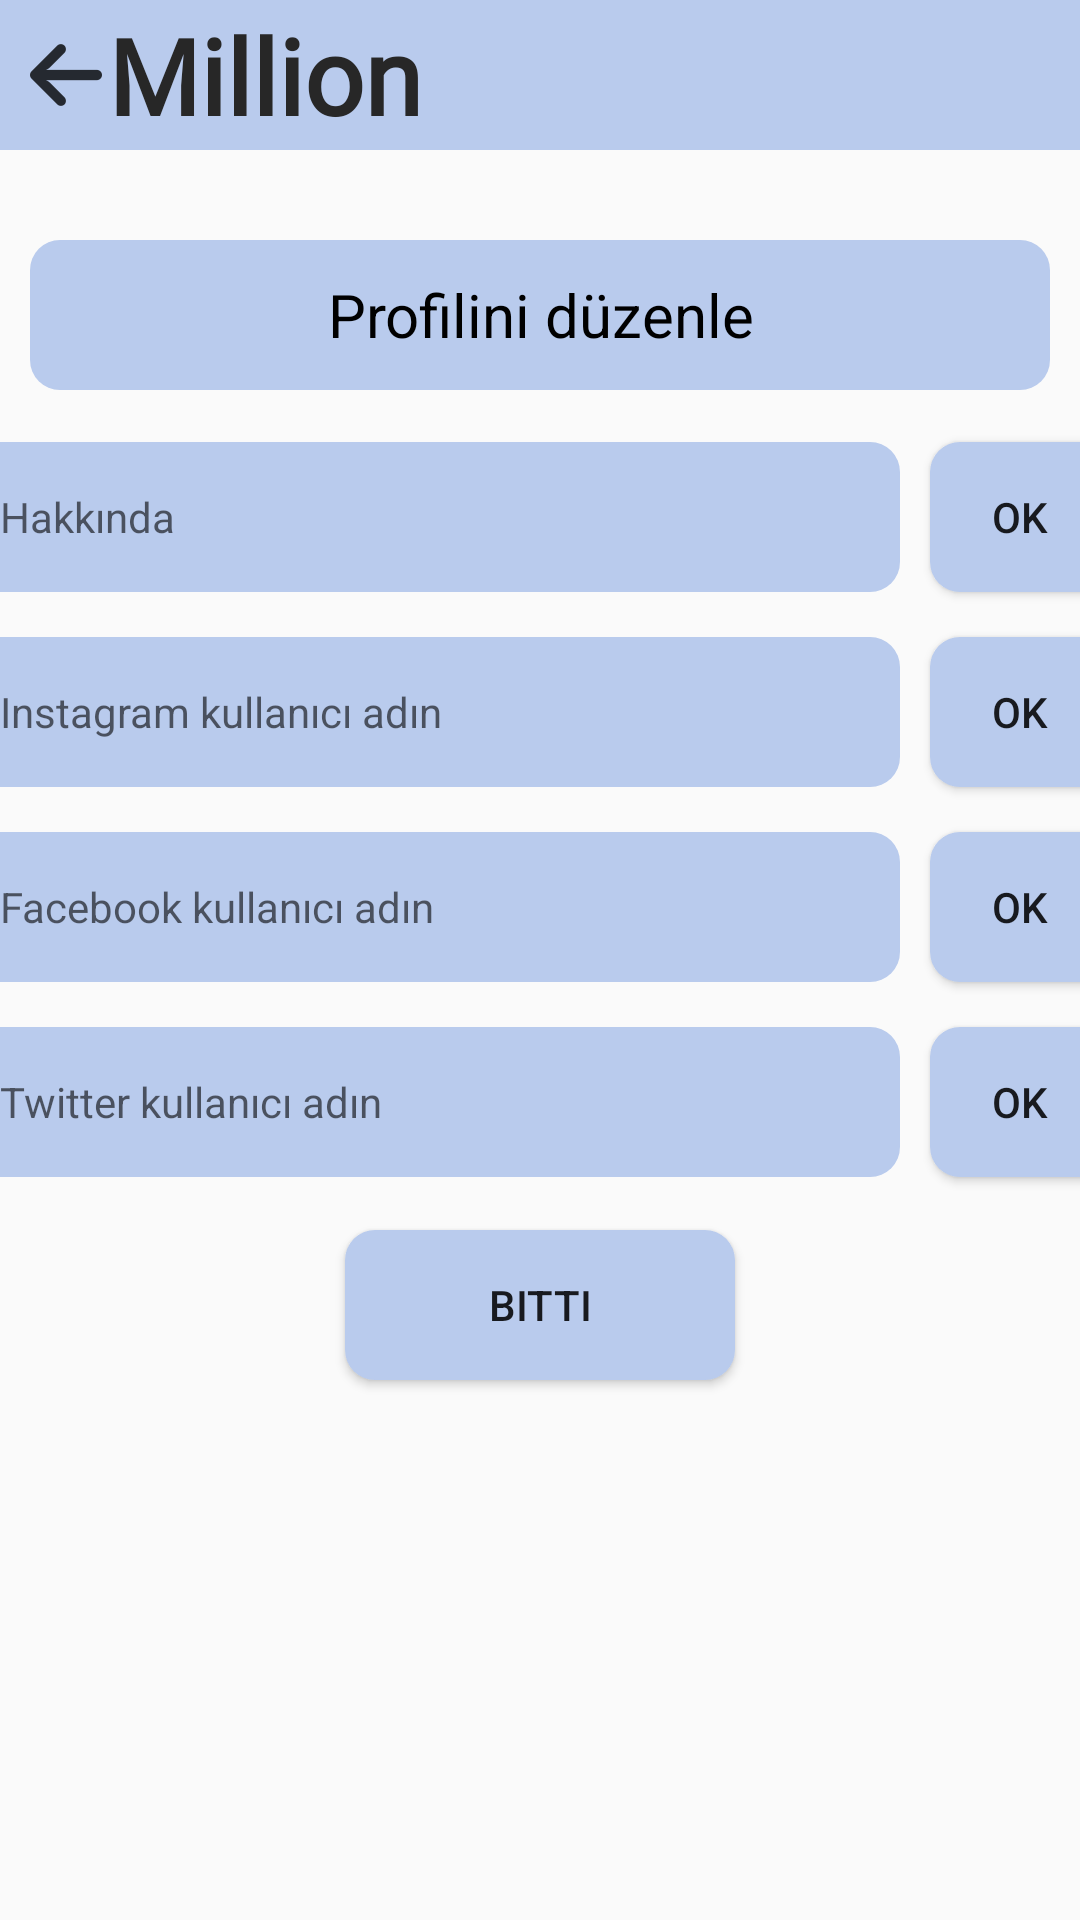

Icons on this 1080 x 1920 Android screen, each with the point to tap as (x,y):
back arrow: (66,75)
